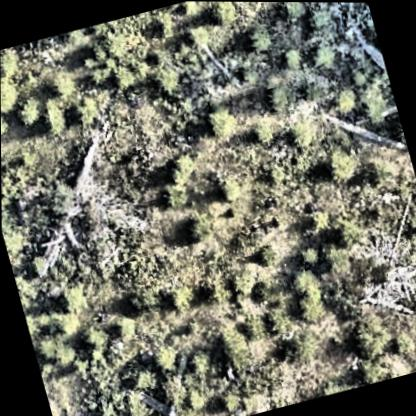tree-top: (341, 307, 394, 359), (282, 261, 330, 314), (210, 315, 258, 362), (318, 139, 364, 187), (34, 327, 82, 373), (194, 100, 239, 145), (323, 209, 367, 254), (278, 326, 321, 366), (175, 204, 214, 245), (210, 168, 249, 209), (185, 339, 224, 378), (160, 274, 200, 312), (281, 114, 318, 152), (161, 147, 198, 184), (64, 92, 101, 129), (126, 356, 162, 392), (152, 60, 186, 98), (300, 4, 341, 35), (146, 339, 181, 375), (8, 93, 43, 129), (100, 27, 135, 63), (35, 98, 70, 133), (56, 277, 90, 313), (45, 180, 79, 214), (0, 67, 23, 115), (326, 83, 358, 117), (213, 383, 245, 414), (44, 69, 77, 99), (307, 39, 337, 70), (78, 323, 109, 352), (180, 20, 213, 47), (241, 24, 272, 52), (157, 180, 186, 208), (22, 247, 49, 276), (107, 61, 133, 90), (0, 43, 22, 71), (274, 2, 306, 21), (205, 1, 232, 22)
